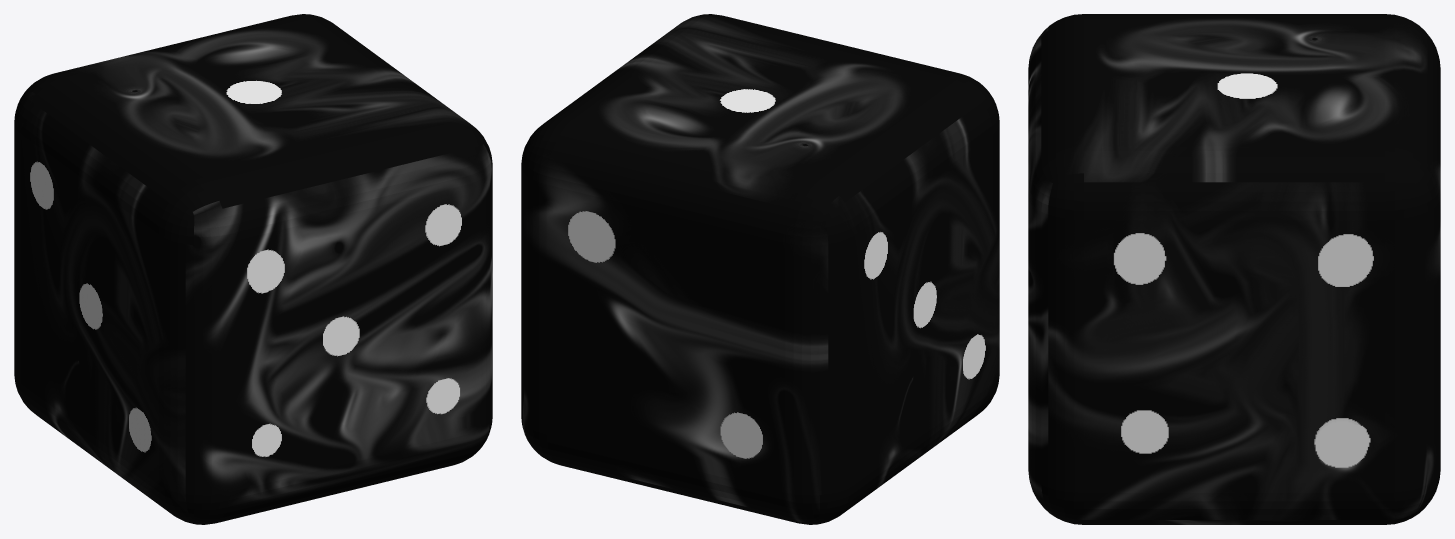
Rendered from marble_die.dae.
The picture shows the model from 3 angles, left to right: view 1: azimuth 30°, elevation 25°; view 2: azimuth 150°, elevation 25°; view 3: azimuth 270°, elevation 25°; orthographic projection. The views are drawn at different scales.
Visible parts, largest first — view 1: Cube; view 2: Cube; view 3: Cube.
Part boxes in pixels (x1=…): Cube: x1=14, y1=14, x2=492, y2=524; Cube: x1=521, y1=14, x2=999, y2=524; Cube: x1=1028, y1=14, x2=1440, y2=524.
Size of what is drawn, in the model's own units: 2 by 2 by 2.
1 material, 1 textured.
